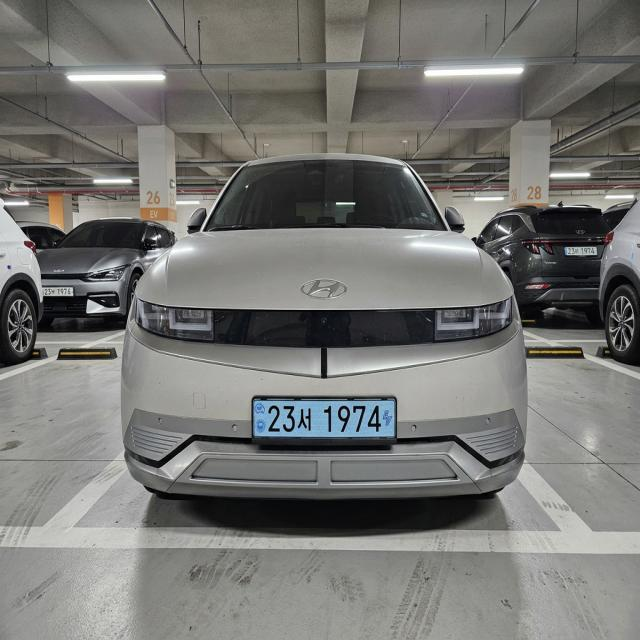car: (239, 381, 415, 462)
carev: (381, 398, 397, 445), (253, 398, 269, 443)
